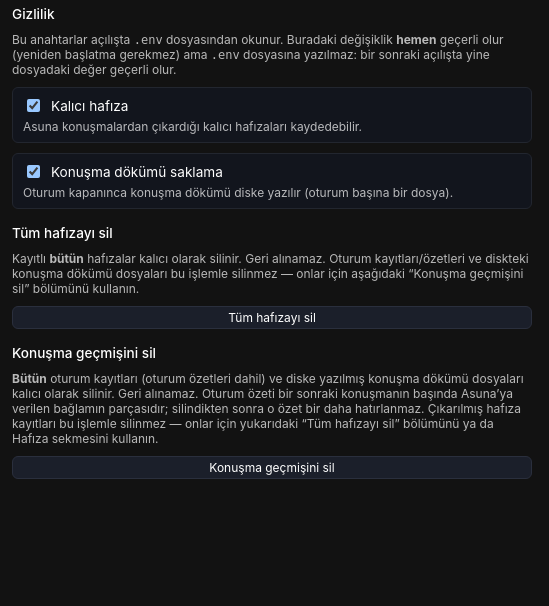
Test: SettingsView — konusma gecmisini sil › reddedilen ifadeyi yutmaz ve onay ekraninda kalir
Click the button "Konuşma geçmişini sil" at {"x": 272, "y": 468}, box [12,456,532,479]
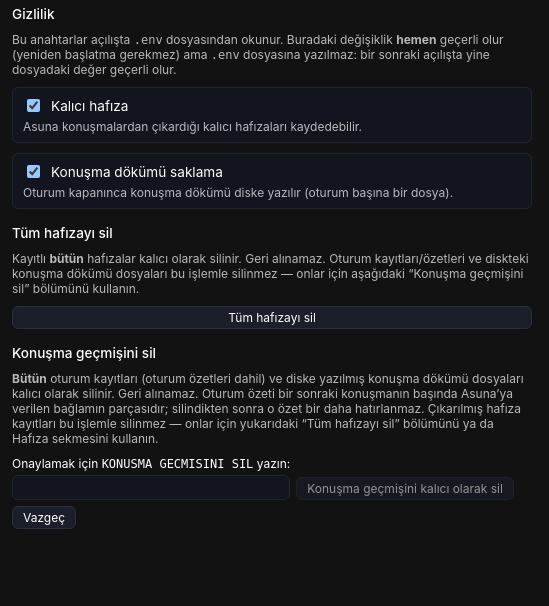
Type "KONUSMA GECMISINI SIL" into the field at {"x": 151, "y": 488}, box [12,475,290,500]
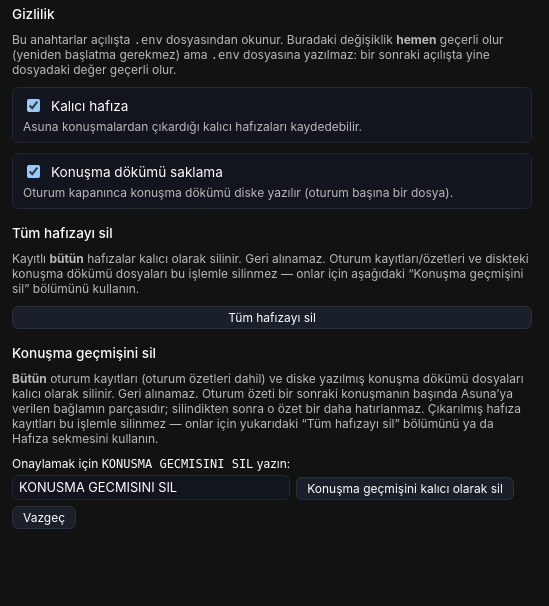
Click the button "Konuşma geçmişini kalıcı olarak sil" at {"x": 405, "y": 488}, box [296,477,514,500]
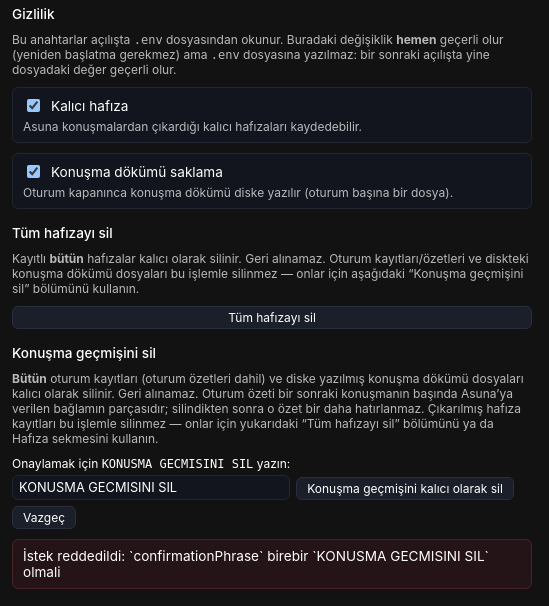
Result: the button "Konuşma geçmişini kalıcı olarak sil" is shown at [296,477,514,500]
Result: the message shows "İstek reddedildi" at [23,548,489,580]
